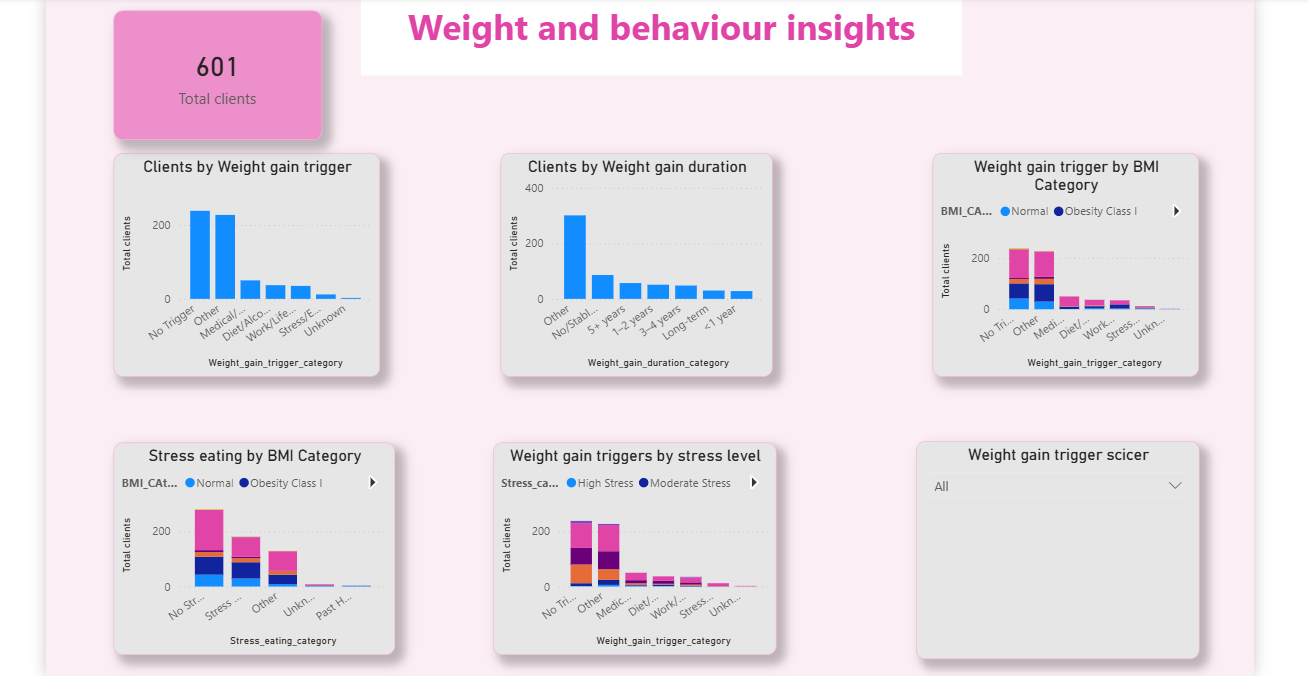

What the dashboard file says about the page in this screenshot:
{"tool":"powerbi","page":{"name":"Weight and behaviour insight","canvas":[1280,720],"ordinal":2},"visuals":[{"type":"textbox","box":[334.6,0,637.4,83.7],"z":0},{"type":"clusteredColumnChart","title":"Clients by Weight gain trigger","fields":{"Category":["Sheet 1 - weightloss list xlsx.Weight_gain_trigger_category"],"Y":["Sheet 1 - weightloss list xlsx.Total clients"]},"box":[71.7,165.3,282.8,237],"z":1000},{"type":"clusteredColumnChart","title":" Clients by Weight gain duration","fields":{"Category":["Sheet 1 - weightloss list xlsx.Weight_gain_duration_category"],"Y":["Sheet 1 - weightloss list xlsx.Total clients"]},"box":[482,165.3,288.8,237],"z":2000},{"type":"columnChart","title":"Weight gain trigger by BMI Category","fields":{"Category":["Sheet 1 - weightloss list xlsx.Weight_gain_trigger_category"],"Y":["Sheet 1 - weightloss list xlsx.Total clients"],"Series":["Sheet 1 - weightloss list xlsx.BMI_CAtegory"]},"box":[940.1,165.3,282.8,237],"z":2001},{"type":"columnChart","title":"Stress eating by BMI Category","fields":{"Category":["Sheet 1 - weightloss list xlsx.Stress_eating_category"],"Y":["Sheet 1 - weightloss list xlsx.Total clients"],"Series":["Sheet 1 - weightloss list xlsx.BMI_CAtegory"]},"box":[71.7,472,298.8,225.1],"z":2002},{"type":"columnChart","title":"Weight gain triggers by stress level","fields":{"Category":["Sheet 1 - weightloss list xlsx.Weight_gain_trigger_category"],"Series":["Sheet 1 - weightloss list xlsx.Stress_category"],"Y":["Sheet 1 - weightloss list xlsx.Total clients"]},"box":[474,472,300.8,225.1],"z":2003},{"type":"slicer","title":"Weight gain trigger scicer","fields":{"Values":["Sheet 1 - weightloss list xlsx.Weight_gain_trigger_category"]},"box":[922.2,470,300.8,231],"z":2004},{"type":"card","fields":{"Values":["Sheet 1 - weightloss list xlsx.Total clients"]},"box":[71.7,13.9,221.1,137.4],"z":2005}]}

Visuals, with their boxes on the page's 1280x720 design canvas (x1, y1, x2, y2). These are canvas units, not pixel positions in the 1308x676 screenshot, which may show the page scaled, cropped or inside an application window:
textbox: bbox(335, 0, 972, 84)
"Clients by Weight gain trigger" clusteredColumnChart: bbox(72, 165, 354, 402)
" Clients by Weight gain duration" clusteredColumnChart: bbox(482, 165, 771, 402)
"Weight gain trigger by BMI Category" columnChart: bbox(940, 165, 1223, 402)
"Stress eating by BMI Category" columnChart: bbox(72, 472, 370, 697)
"Weight gain triggers by stress level" columnChart: bbox(474, 472, 775, 697)
"Weight gain trigger scicer" slicer: bbox(922, 470, 1223, 701)
card - Sheet 1 - weightloss list xlsx.Total clients: bbox(72, 14, 293, 151)
